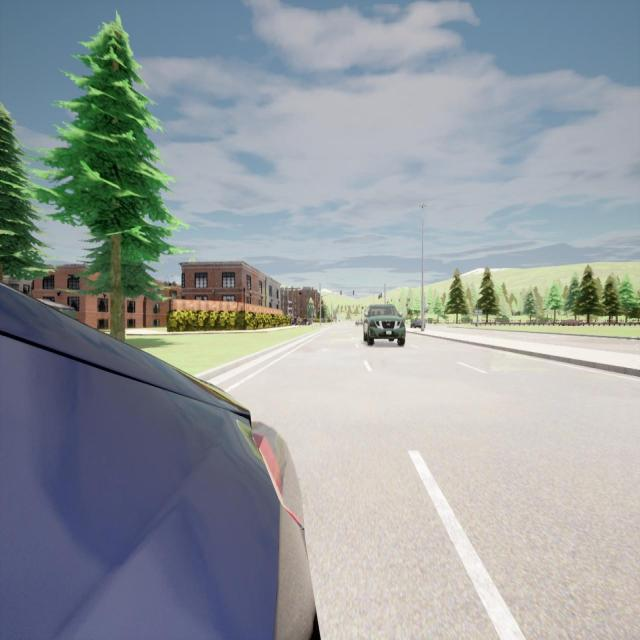Vehicle: (0, 283, 314, 637), (363, 304, 406, 348), (410, 318, 426, 330), (354, 318, 363, 327)
traffic_light: (378, 295, 380, 299), (341, 290, 342, 295), (353, 290, 354, 295), (381, 294, 382, 298)
